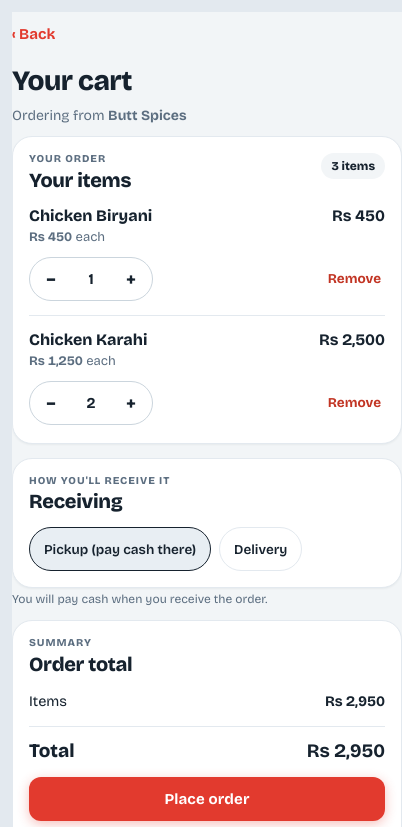
it: CartScreen checkout pricing › updates quantity immediately when the plus control is tapped
Click the button named "Increase quantity of Chicken Biryani": click(131, 279) [110,258,152,300]
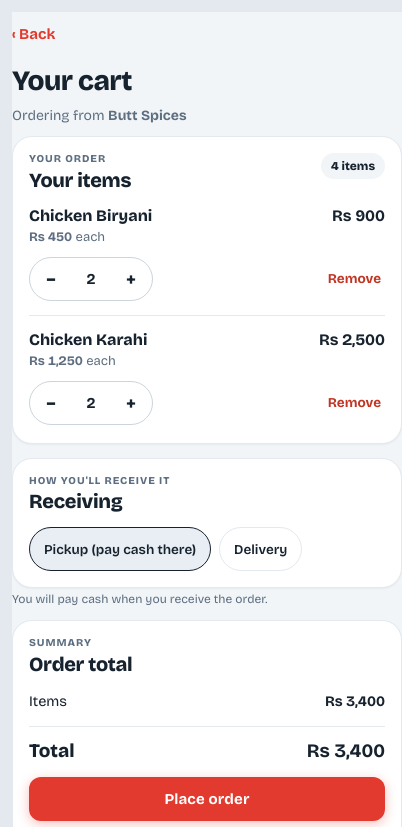
Result: the text "2" below "Rs 450" is shown at [86,270,96,288]
Result: the text "Rs 900" is shown at [332,206,385,225]
